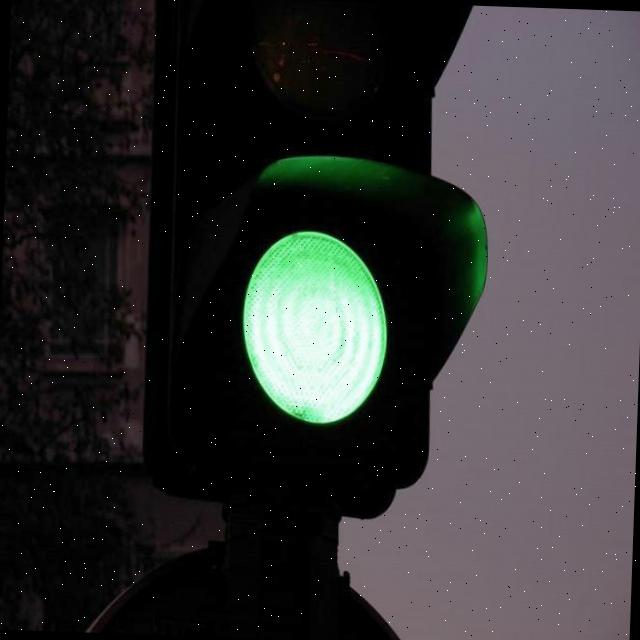Zielone swiatlo: (194, 4, 429, 473)
